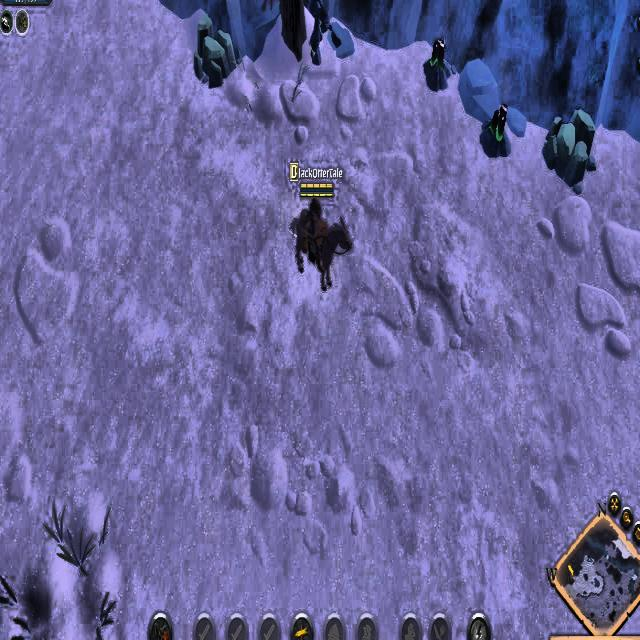sandstone: (538, 108, 601, 196), (191, 15, 238, 94)
tinore: (478, 103, 511, 158), (422, 36, 452, 94)
